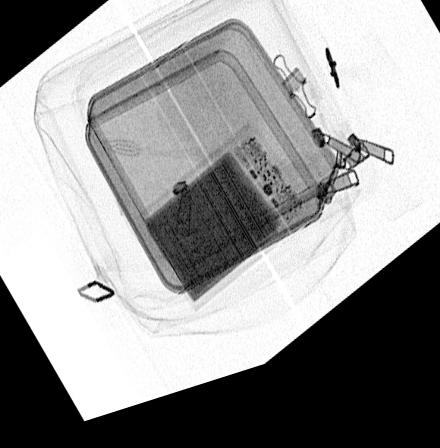Powerbank: (135, 139, 315, 325)
